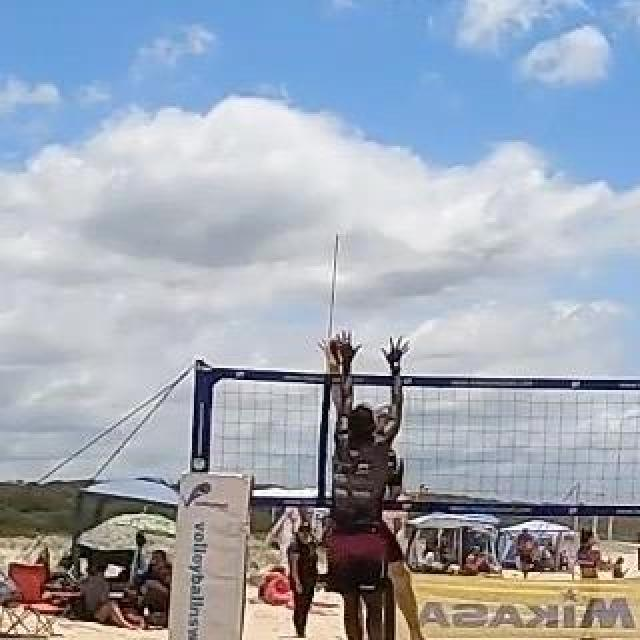volleyball: (324, 335, 352, 365)
